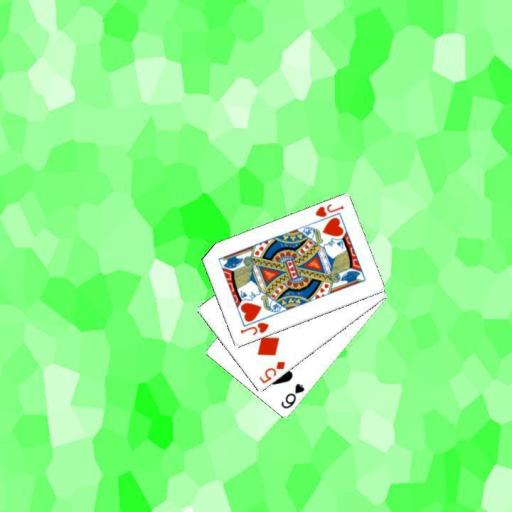card-corner: (256, 358, 287, 386), (278, 380, 306, 410), (237, 319, 270, 337), (312, 201, 345, 219)
